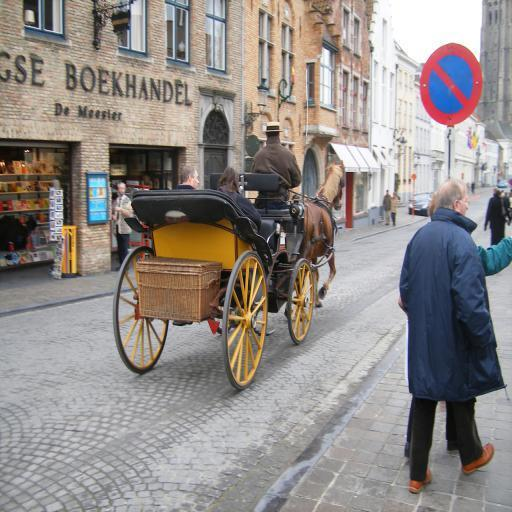horse: (284, 157, 346, 318)
